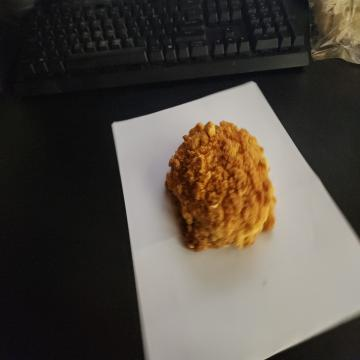soboru_bread: (165, 117, 276, 252)
